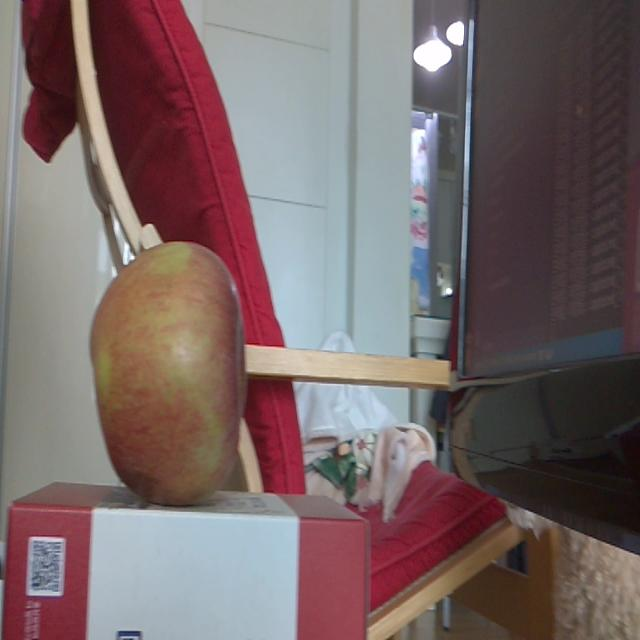apple: (90, 242, 246, 503)
